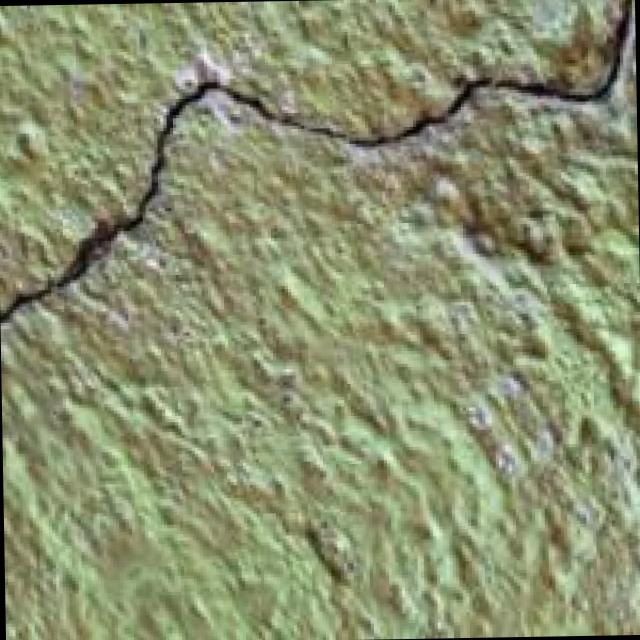crack: (0, 0, 637, 354)
